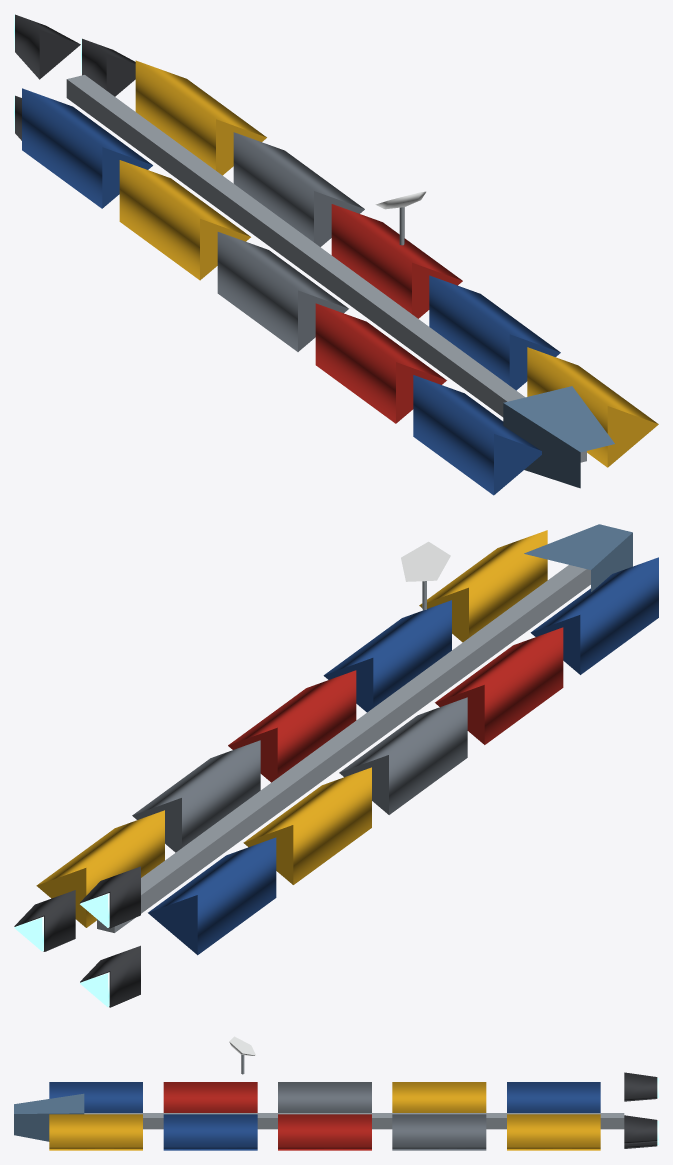
The model's file is space_ship_logistics_mk5_lod2.glb.
3 views of the same model, one above another, from view 1: azimuth 30°, elevation 25°; view 2: azimuth 150°, elevation 25°; view 3: azimuth 270°, elevation 25° (orthographic). The views are drawn at different scales.
Visible parts, largest first — view 1: body, pod_4_0, pod_1_0, pod_2_0, pod_3_0, pod_0_0, pod_0_1, pod_1_1, pod_3_1, pod_2_1, pod_4_1, engine_1 (+1 smaller); view 2: body, pod_0_0, pod_3_0, pod_2_0, pod_1_0, pod_4_0, pod_2_1, pod_1_1, pod_3_1, pod_4_1, pod_0_1, engine_0 (+3 smaller); view 3: body, pod_1_1, pod_3_1, pod_0_1, pod_2_1, pod_4_1, pod_1_0, pod_3_0, pod_0_0, pod_2_0, pod_4_0, engine_0 (+2 smaller).
Boxes of the visible parts, x1,y1,x2,y2 form: body: [66, 75, 614, 488]; pod_4_0: [413, 375, 541, 495]; pod_1_0: [119, 160, 250, 280]; pod_2_0: [217, 232, 348, 351]; pod_3_0: [315, 303, 446, 423]; pod_0_0: [22, 88, 152, 208]; pod_0_1: [135, 60, 266, 175]; pod_1_1: [233, 132, 364, 246]; pod_3_1: [429, 275, 560, 390]; pod_2_1: [331, 204, 462, 318]; pod_4_1: [527, 347, 658, 467]; engine_1: [14, 14, 80, 79]; body: [97, 524, 632, 932]; pod_0_0: [148, 837, 276, 955]; pod_3_0: [435, 627, 563, 744]; pod_2_0: [339, 697, 467, 814]; pod_1_0: [243, 767, 371, 884]; pod_4_0: [530, 557, 658, 674]; pod_2_1: [228, 670, 356, 782]; pod_1_1: [132, 740, 260, 852]; pod_3_1: [323, 600, 451, 712]; pod_4_1: [419, 530, 547, 642]; pod_0_1: [36, 810, 164, 927]; engine_0: [14, 890, 75, 951]; body: [14, 1093, 624, 1141]; pod_1_1: [392, 1114, 486, 1150]; pod_3_1: [163, 1114, 257, 1150]; pod_0_1: [507, 1114, 600, 1150]; pod_2_1: [278, 1114, 371, 1150]; pod_4_1: [49, 1114, 142, 1150]; pod_1_0: [392, 1082, 486, 1112]; pod_3_0: [163, 1082, 257, 1112]; pod_0_0: [507, 1082, 600, 1112]; pod_2_0: [278, 1082, 371, 1112]; pod_4_0: [49, 1082, 142, 1112]; engine_0: [624, 1115, 658, 1144].
Size of the model in its own units: 7.31 by 8.69 by 42.3.
